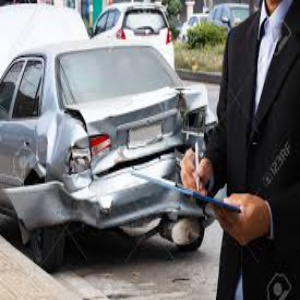bonnet: (78, 98, 186, 150)
bumper: (13, 175, 168, 247)
tail_lights: (62, 130, 115, 169)
